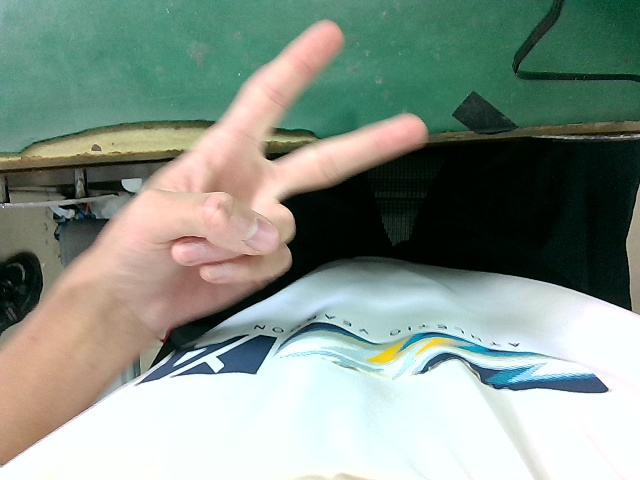scissor: (97, 8, 439, 324)
